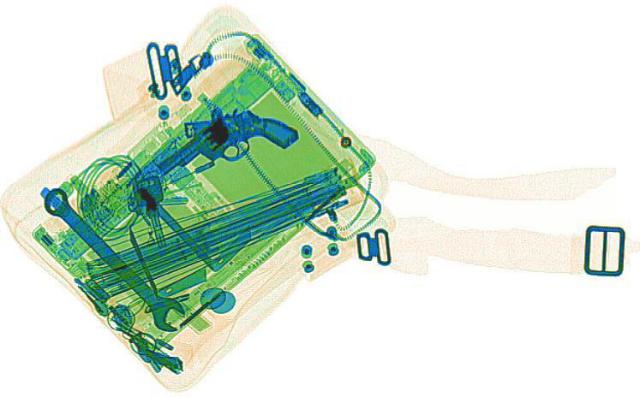Gun: (150, 101, 306, 195)
Wrench: (29, 185, 199, 332)
